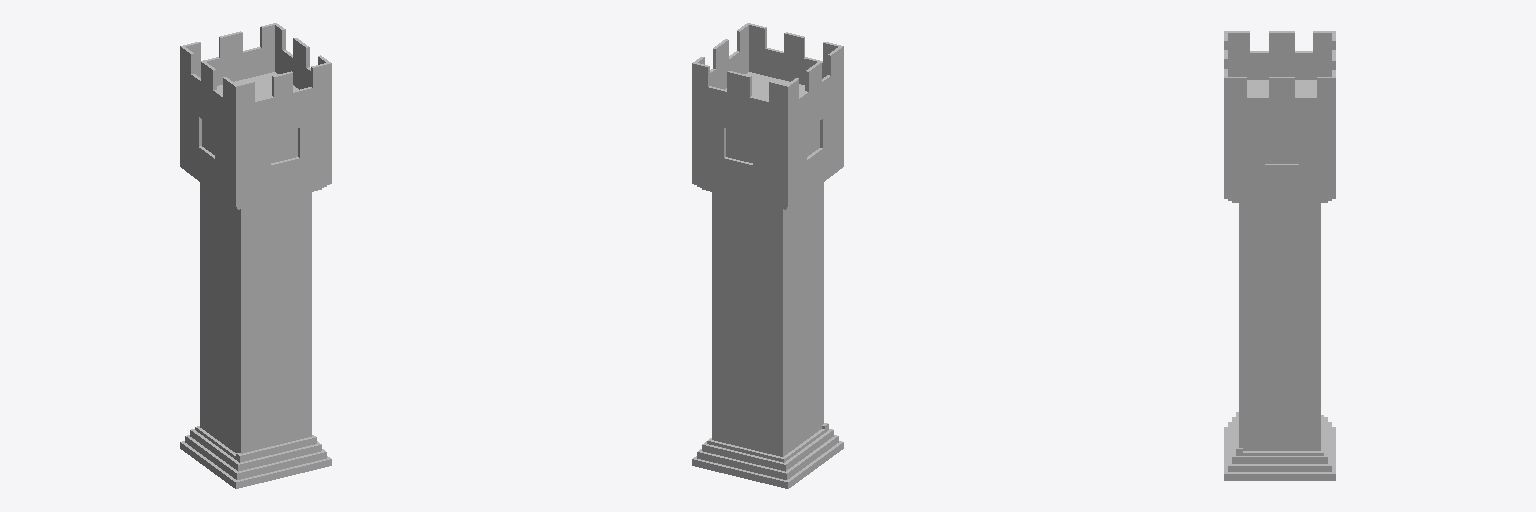
Rendered from Tower.obj.
3 renders of one model, left to right at view 1: azimuth 30°, elevation 25°; view 2: azimuth 150°, elevation 25°; view 3: azimuth 270°, elevation 25°, orthographic.
Parts seen in each view (by area): view 1: object 1; view 2: object 1; view 3: object 1.
Part boxes in pixels (x1,y1,x2,y2): object 1: (180, 23, 331, 488); object 1: (692, 23, 843, 488); object 1: (1224, 31, 1335, 480).
Size of the model in its own units: 3 by 12 by 3.